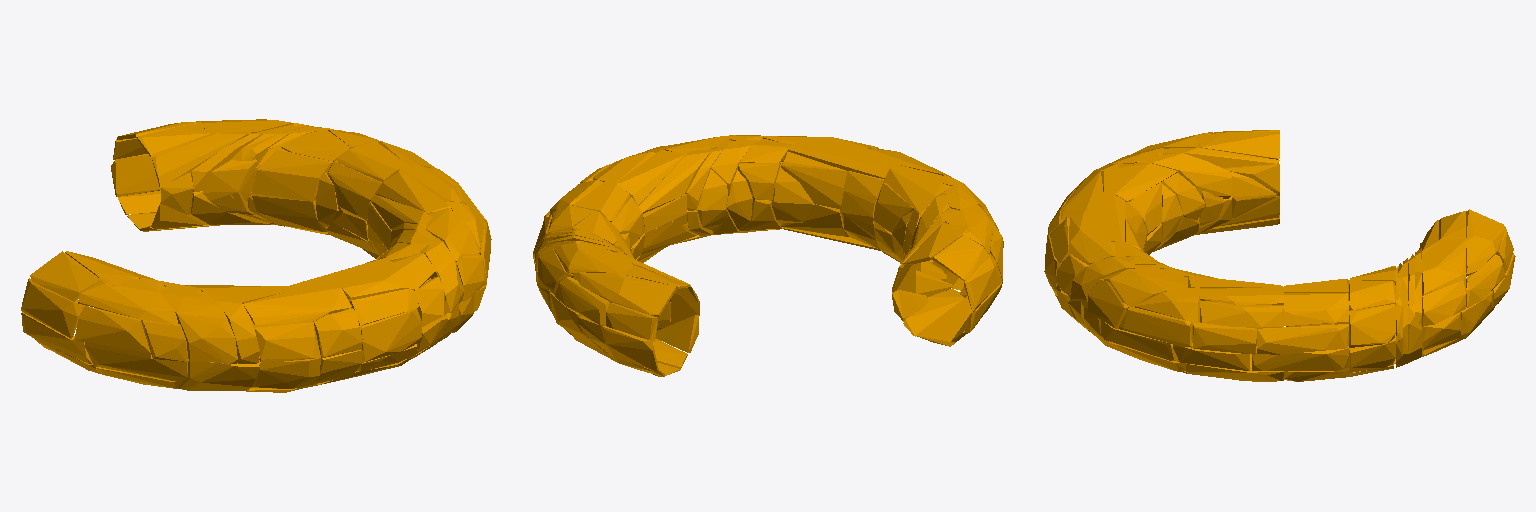
URDF robot description (donut):
<?xml version="1.0"?>
<robot name="donut">

  <link name="base_link">
    <visual>
      <geometry>
        <mesh filename="package://physical-experiment/downsampled4blender/donut-90-vhacd.obj" scale="10 10 10"/>
      </geometry>
    </visual>
    <collision>
      <geometry>
        <mesh filename="package://physical-experiment/downsampled4blender/donut-90-vhacd.obj" scale="10 10 10"/>
      </geometry>
    </collision>
  </link>

</robot>

--- Facts derived from the render (not from the file) ---
Views: 3 orthographic renders of the robot side by side, from view 1: azimuth 30°, elevation 25°; view 2: azimuth 150°, elevation 25°; view 3: azimuth 270°, elevation 25°.
Model donut with 1 links and 0 joints (none), rooted at base_link, posed all joints at 0.
Visible links, largest first — view 1: base_link; view 2: base_link; view 3: base_link.
Link boxes in pixels (left/top/right/bottom): base_link: left=21, top=119, right=491, bottom=392; base_link: left=533, top=135, right=1003, bottom=376; base_link: left=1044, top=130, right=1515, bottom=381.
Size in the robot's own frame: 1.05 by 1.05 by 0.2138 metres.
1 mesh visuals loaded from 1 distinct referenced files (1 OBJ).
